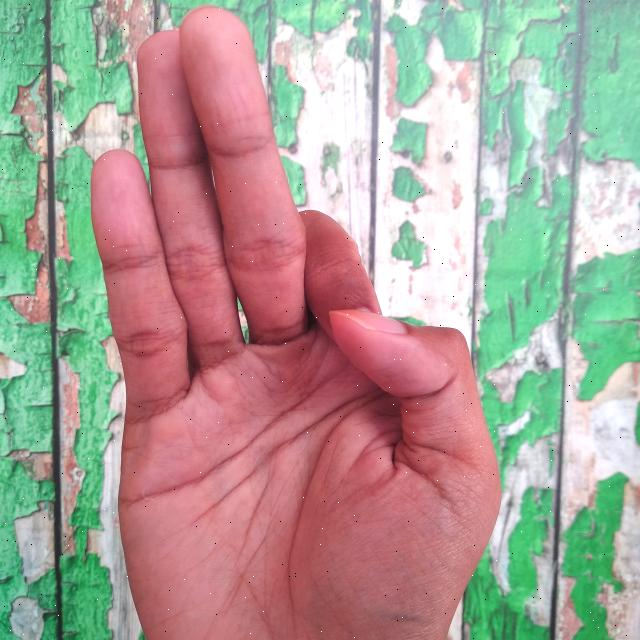F: (86, 4, 509, 640)
